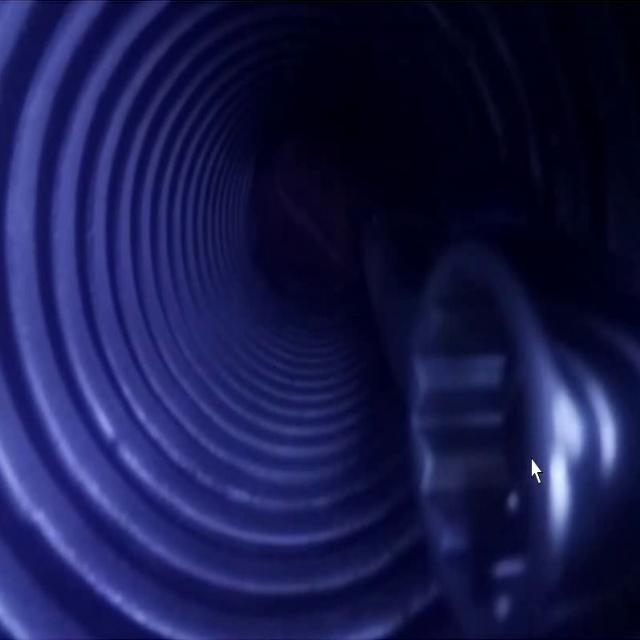metal piece: (399, 230, 639, 640)
